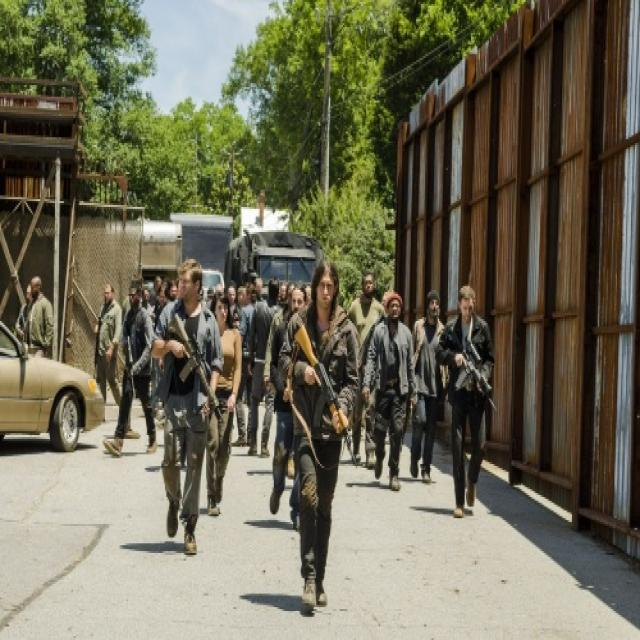rifle: (296, 323, 360, 473), (170, 312, 228, 432)
